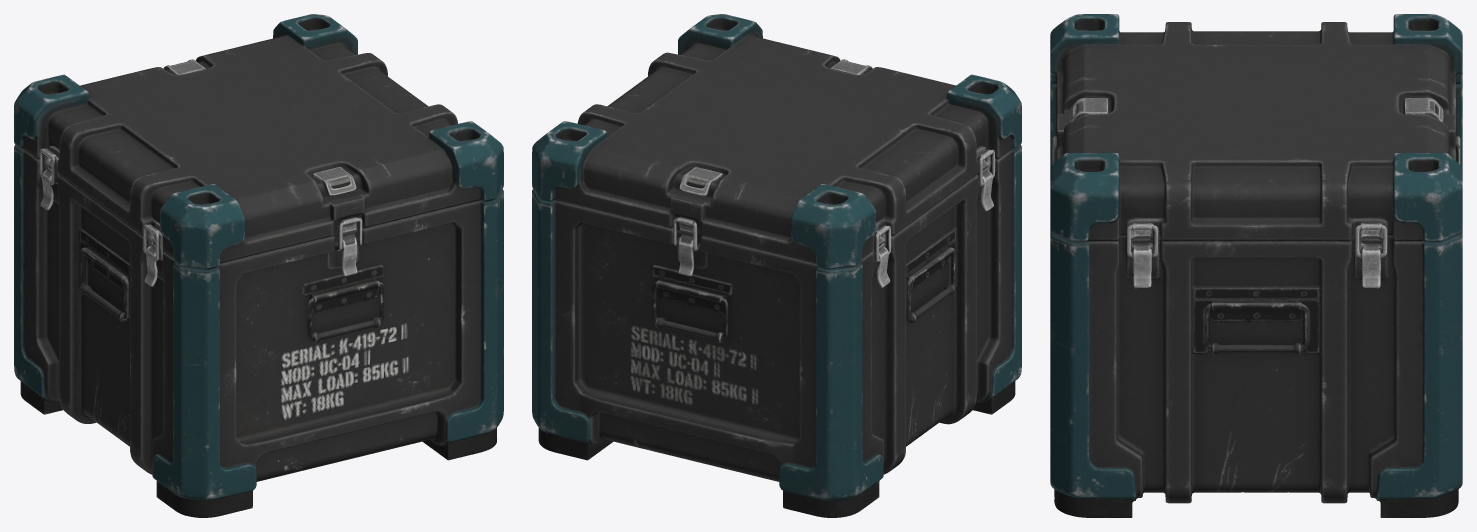
The model's file is Meshy_AI_Rugged_Cargo_Case_1024075235_texture.glb.
3 views of the same model, side by side, from view 1: azimuth 30°, elevation 25°; view 2: azimuth 150°, elevation 25°; view 3: azimuth 270°, elevation 25° (orthographic). The views are drawn at different scales.
Size of the model in its own units: 1.9 by 1.72 by 1.89.
Materials: 1 (1 with a texture image).
